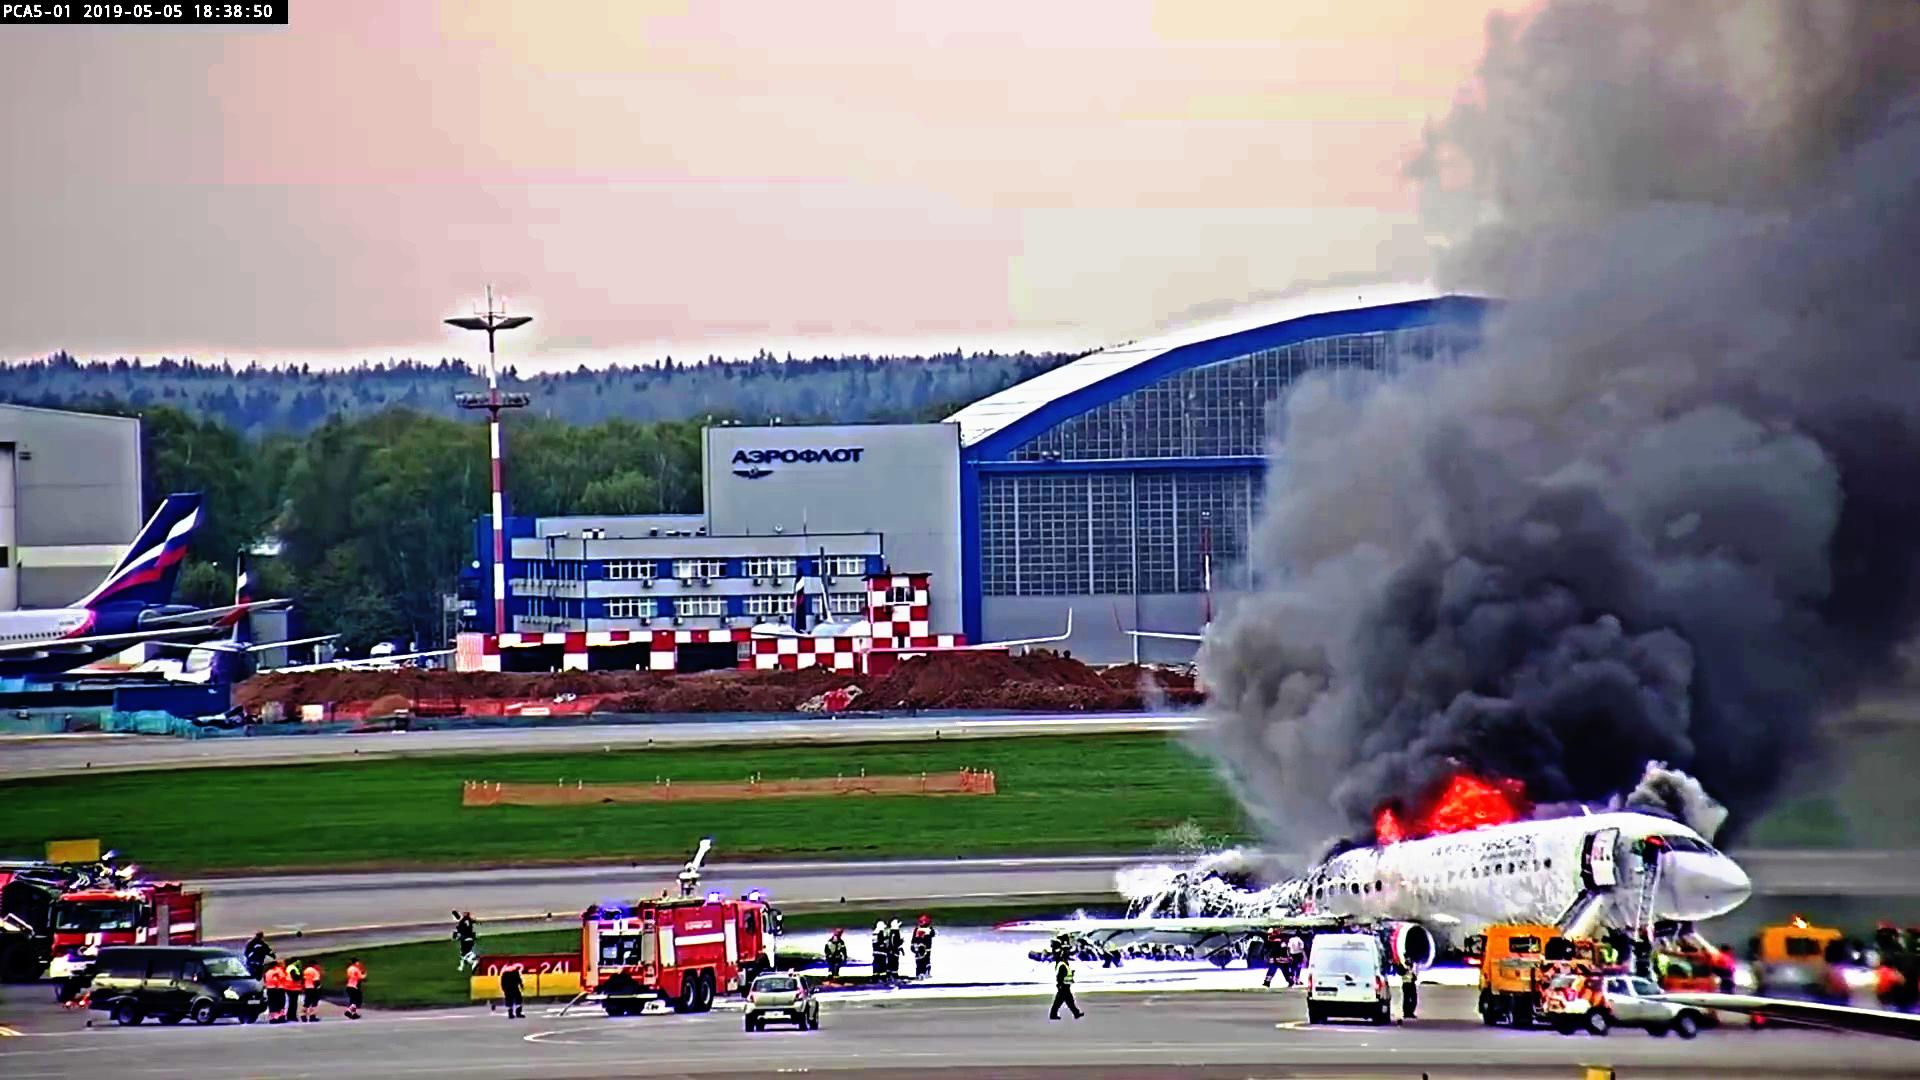fire: (1378, 793, 1505, 848)
smoke: (1487, 5, 1920, 740), (1295, 382, 1854, 746)
